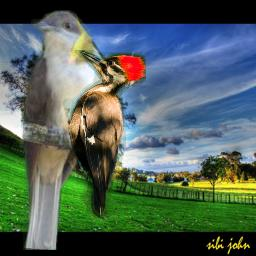Cuckoo: (18, 10, 106, 250)
Woodpecker: (60, 50, 146, 219)
